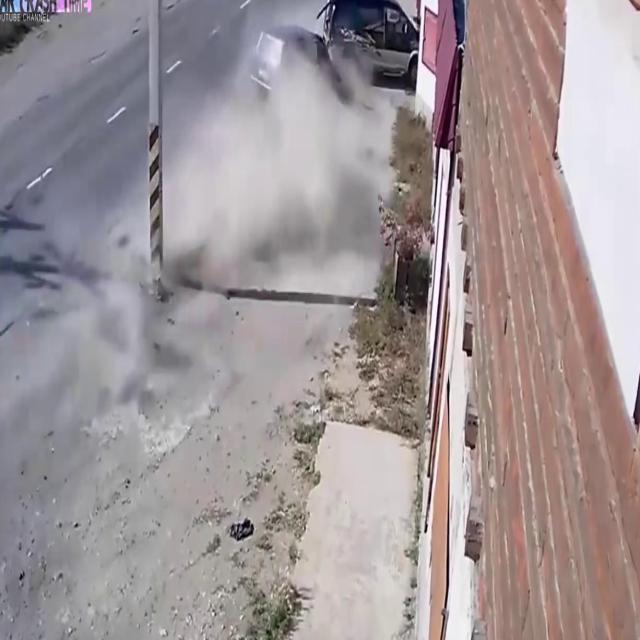accident: (236, 0, 426, 155)
